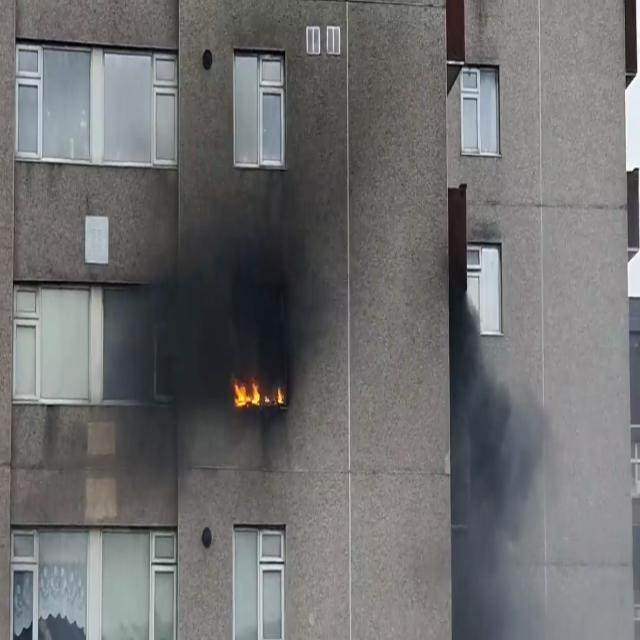Fire: (234, 379, 284, 418)
Smoke: (112, 162, 332, 496), (440, 278, 547, 640)
